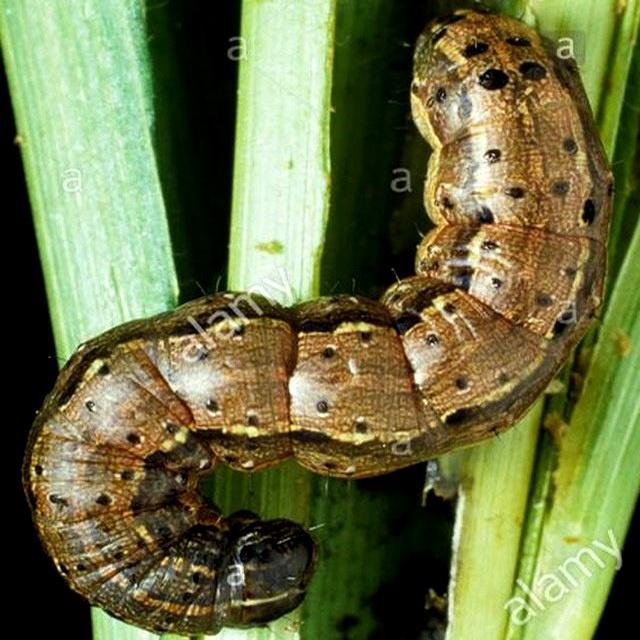Plaga: (19, 1, 619, 638)
